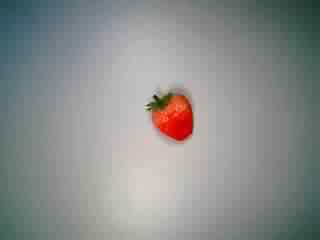strawberry: (131, 82, 197, 148)
